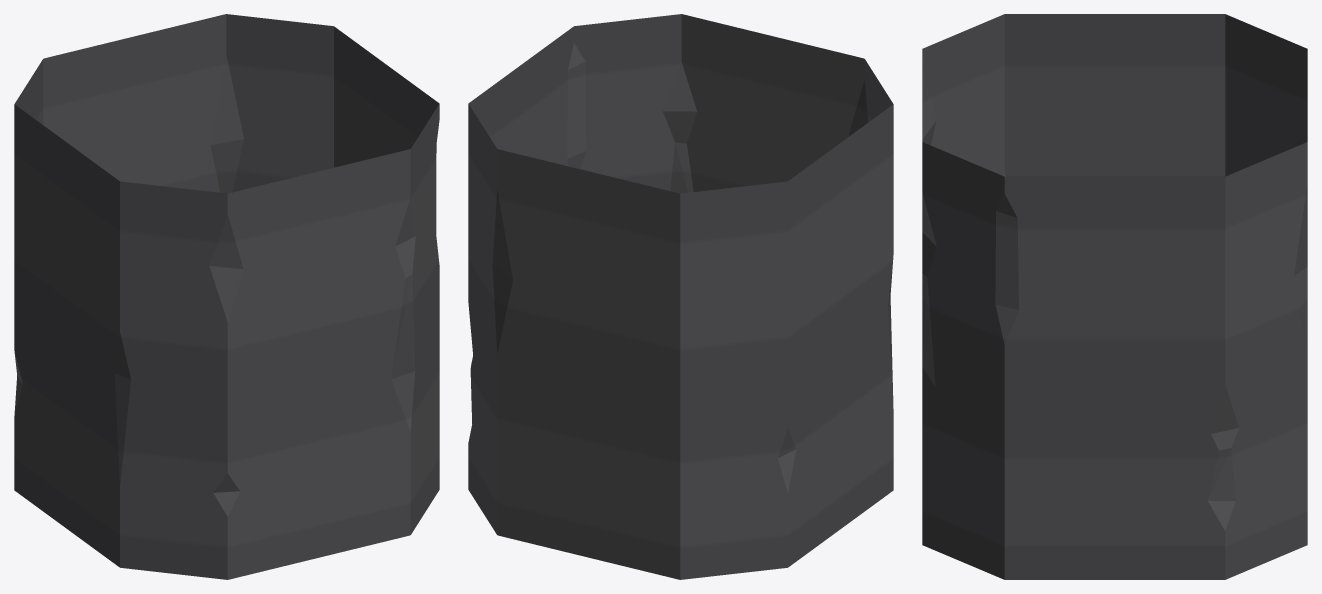
File: SM_Bld_Castle_Tower_03_Lite.gltf
3 views of the same model, side by side, from view 1: azimuth 30°, elevation 25°; view 2: azimuth 150°, elevation 25°; view 3: azimuth 270°, elevation 25° (orthographic). The views are drawn at different scales.
Parts seen in each view (by area): view 1: SM_Bld_Castle_Tower_03_Lite; view 2: SM_Bld_Castle_Tower_03_Lite; view 3: SM_Bld_Castle_Tower_03_Lite.
Part boxes in pixels (<box>): SM_Bld_Castle_Tower_03_Lite: <box>14,14,439,579</box>; SM_Bld_Castle_Tower_03_Lite: <box>468,14,893,579</box>; SM_Bld_Castle_Tower_03_Lite: <box>922,14,1307,579</box>.
Bounding box in the file's own units: 2.6 × 3 × 2.6.
1 material, 1 textured.
